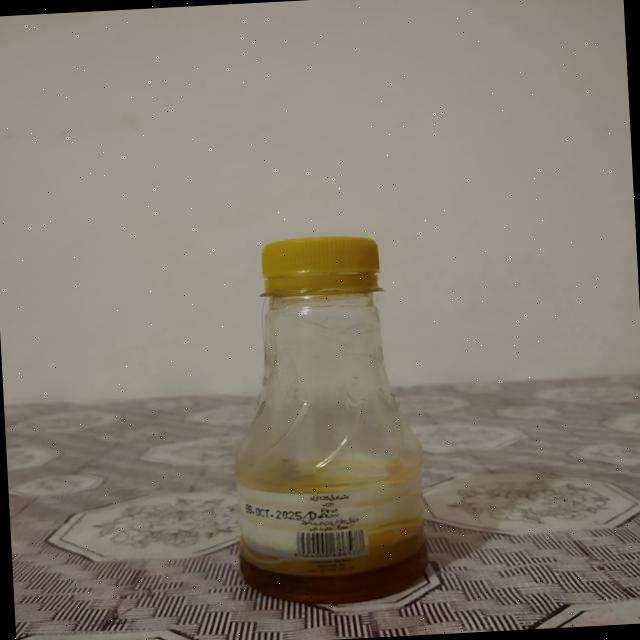bottle: (202, 220, 429, 620)
cap: (242, 227, 386, 312)
label: (208, 462, 437, 574)
